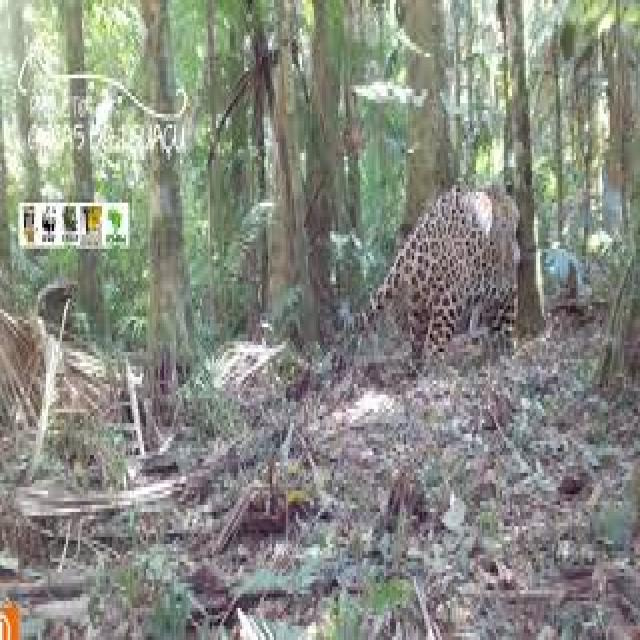Jaguar: (334, 178, 522, 384)
